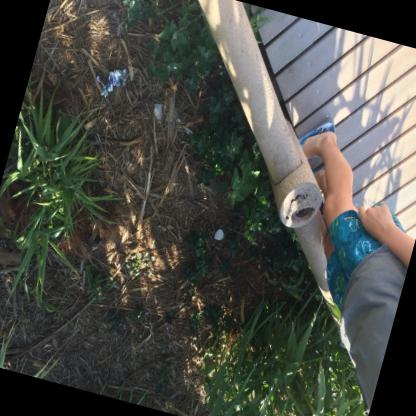Plastic: (95, 68, 126, 97), (153, 103, 160, 119)
Waste: (213, 228, 222, 240)
